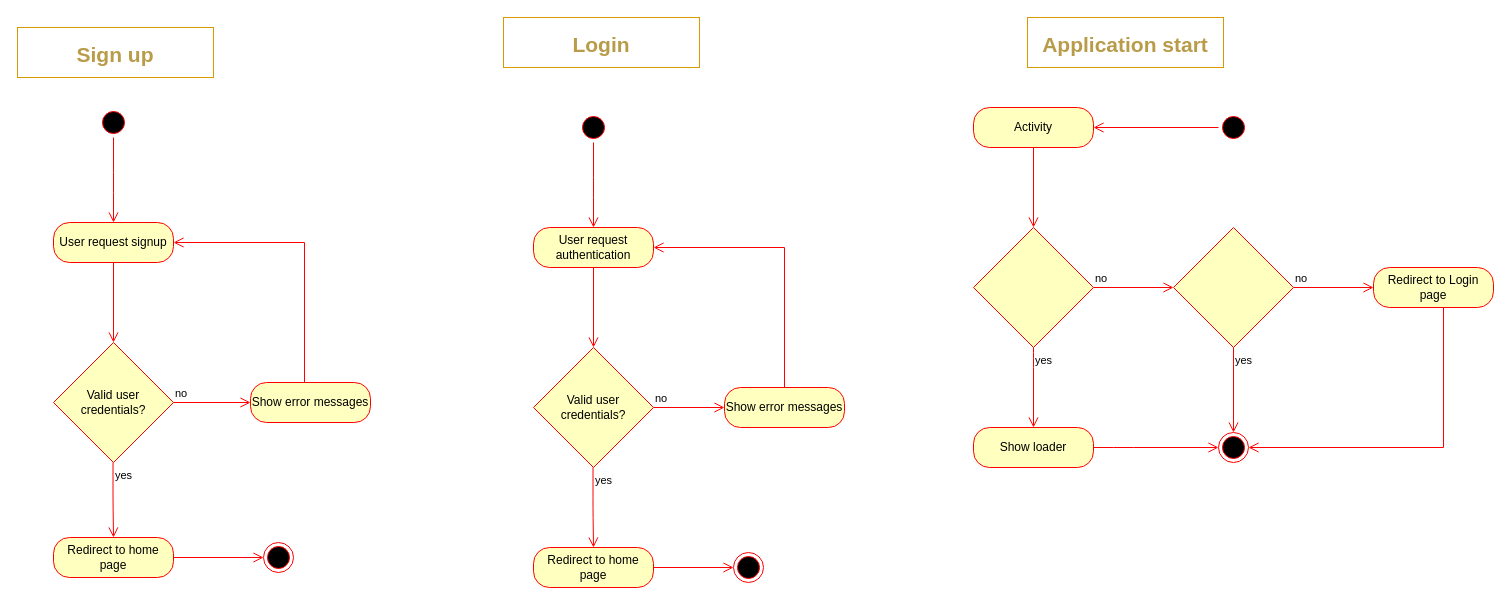
Some shapes in this 1511 by 605 pixel diagram are drawn without their labels. Each missing label, with the centre of its shape:
Application busy?: point (1033, 287)
User s logged in?: point (1233, 287)
